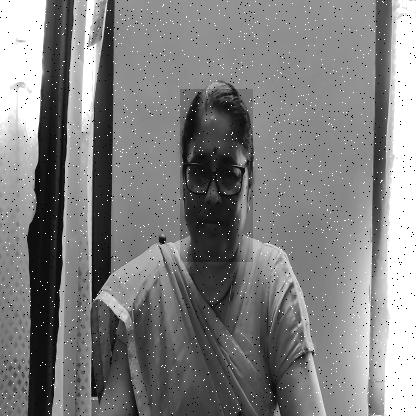Normal: (180, 89, 253, 262)
